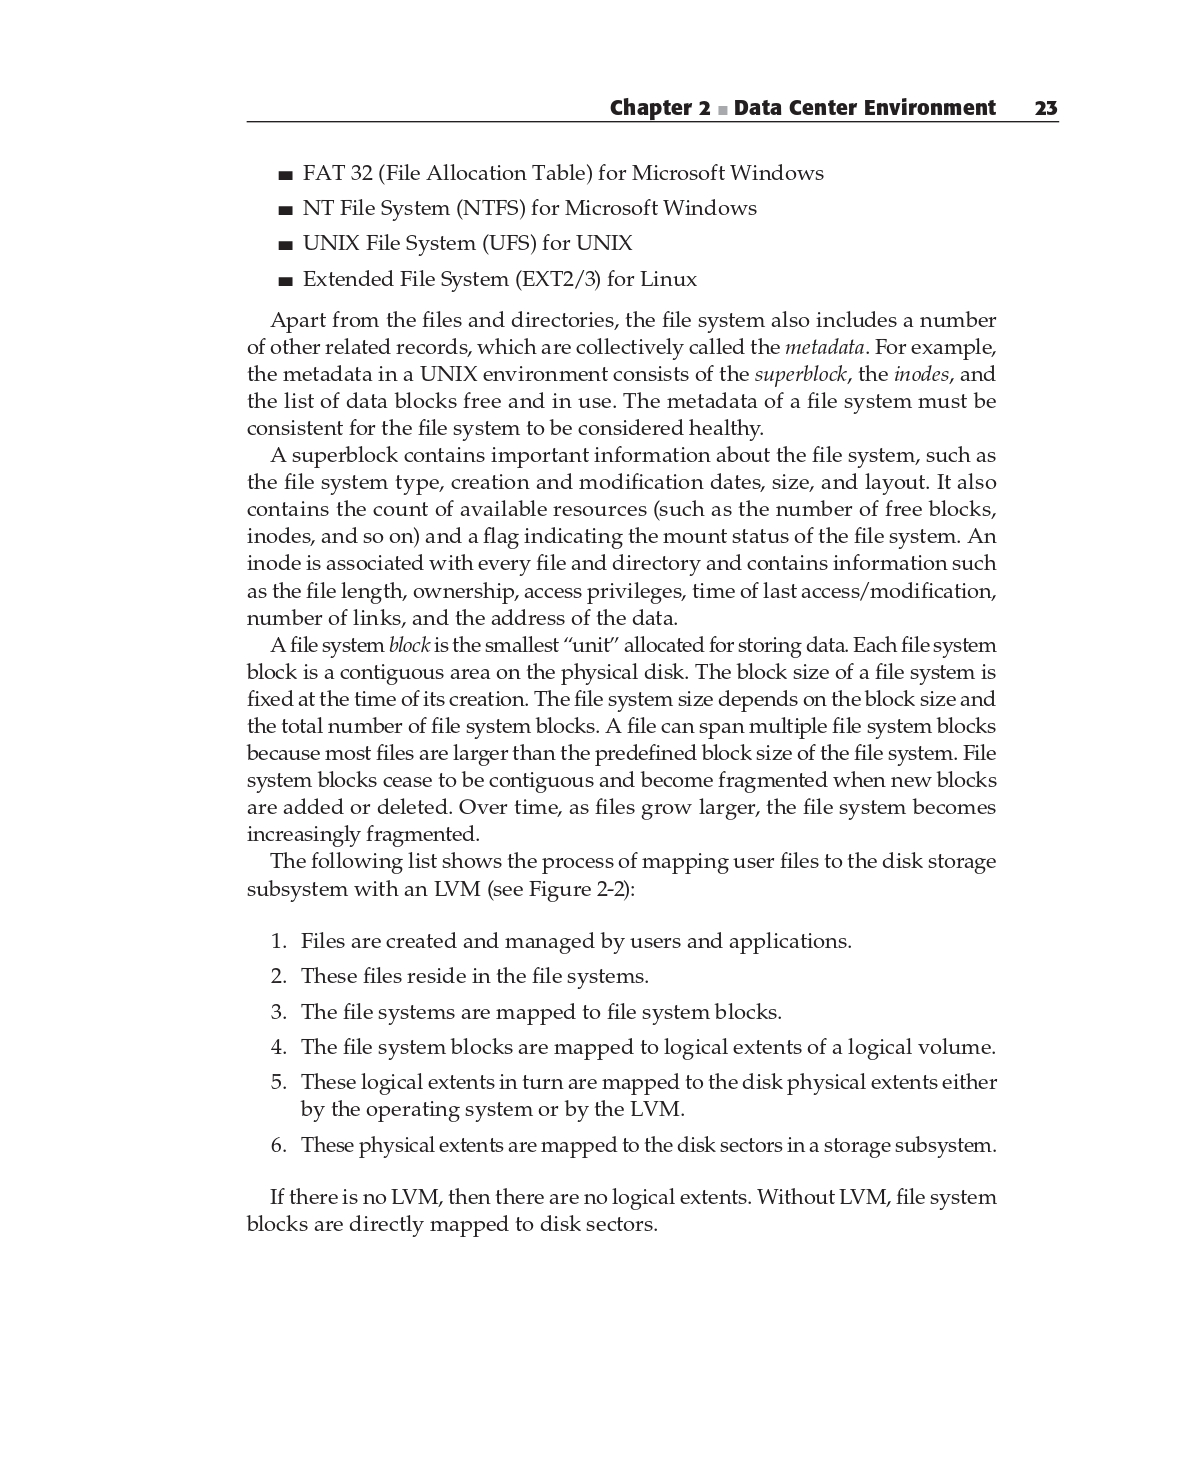Paragraph: (298, 920, 1013, 1168), (234, 630, 996, 844), (242, 441, 999, 625), (240, 295, 999, 438), (280, 145, 841, 292), (234, 1165, 1022, 1229), (245, 850, 1001, 905)
